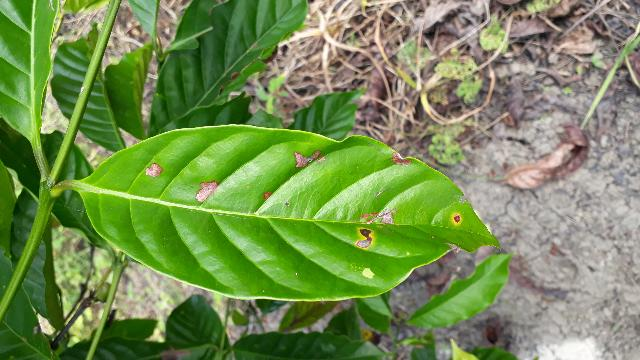rust_level_1: (74, 125, 507, 305)
